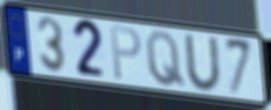2: (70, 18, 111, 82)
3: (36, 14, 67, 76)
7: (224, 35, 253, 99)
P: (108, 24, 143, 83)
Q: (144, 29, 187, 90)
U: (182, 33, 224, 94)
